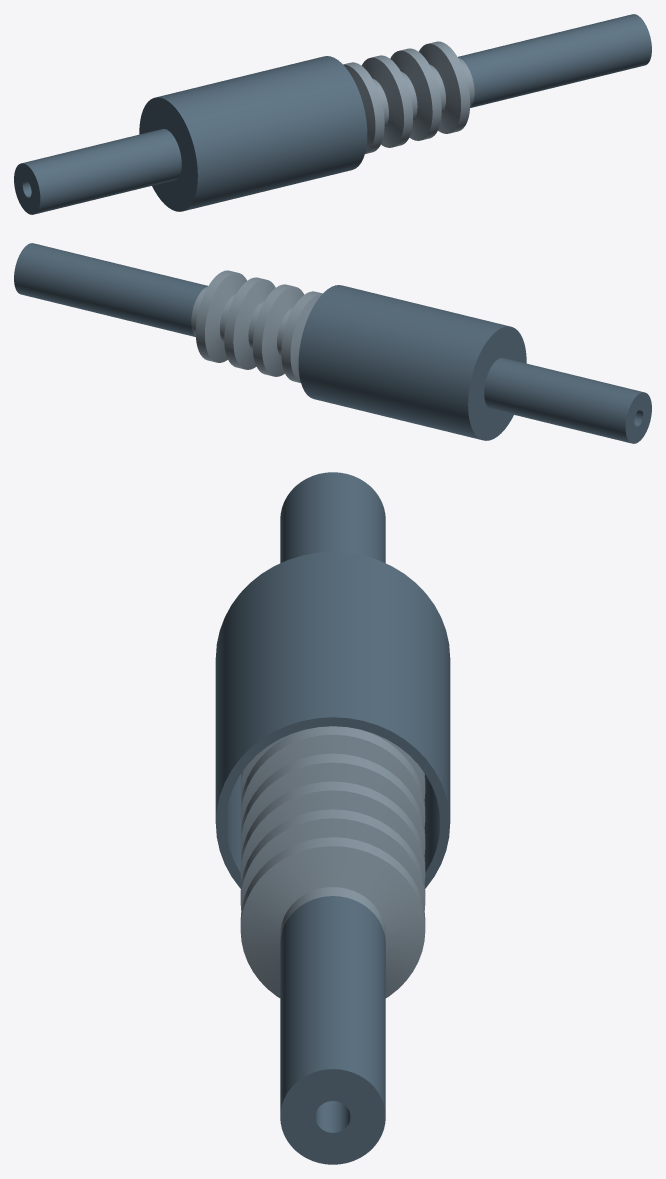
The model's file is silf-dn15-L285-D21_3-k-o40.glb.
3 views of the same model, one above another, from view 1: azimuth 30°, elevation 25°; view 2: azimuth 150°, elevation 25°; view 3: azimuth 270°, elevation 25° (orthographic). The views are drawn at different scales.
Visible parts, largest first — view 1: osnovanie_kozhuh_1, prokladka_silfon_1, patrubok_2, patrubok_1; view 2: osnovanie_kozhuh_1, prokladka_silfon_1, patrubok_2, patrubok_1; view 3: osnovanie_kozhuh_1, prokladka_silfon_1, patrubok_2, patrubok_1.
Part boxes in pixels (x1=…): osnovanie_kozhuh_1: x1=139, y1=56, x2=367, y2=211; prokladka_silfon_1: x1=343, y1=41, x2=474, y2=153; patrubok_2: x1=458, y1=14, x2=651, y2=107; patrubok_1: x1=14, y1=129, x2=181, y2=214; osnovanie_kozhuh_1: x1=298, y1=285, x2=526, y2=440; prokladka_silfon_1: x1=191, y1=270, x2=322, y2=382; patrubok_2: x1=14, y1=243, x2=207, y2=336; patrubok_1: x1=484, y1=358, x2=651, y2=443; osnovanie_kozhuh_1: x1=215, y1=552, x2=450, y2=888; prokladka_silfon_1: x1=240, y1=726, x2=425, y2=997; patrubok_2: x1=280, y1=896, x2=385, y2=1164; patrubok_1: x1=280, y1=472, x2=385, y2=563.
Size of the model in its own units: 285 by 47.3 by 47.3.
